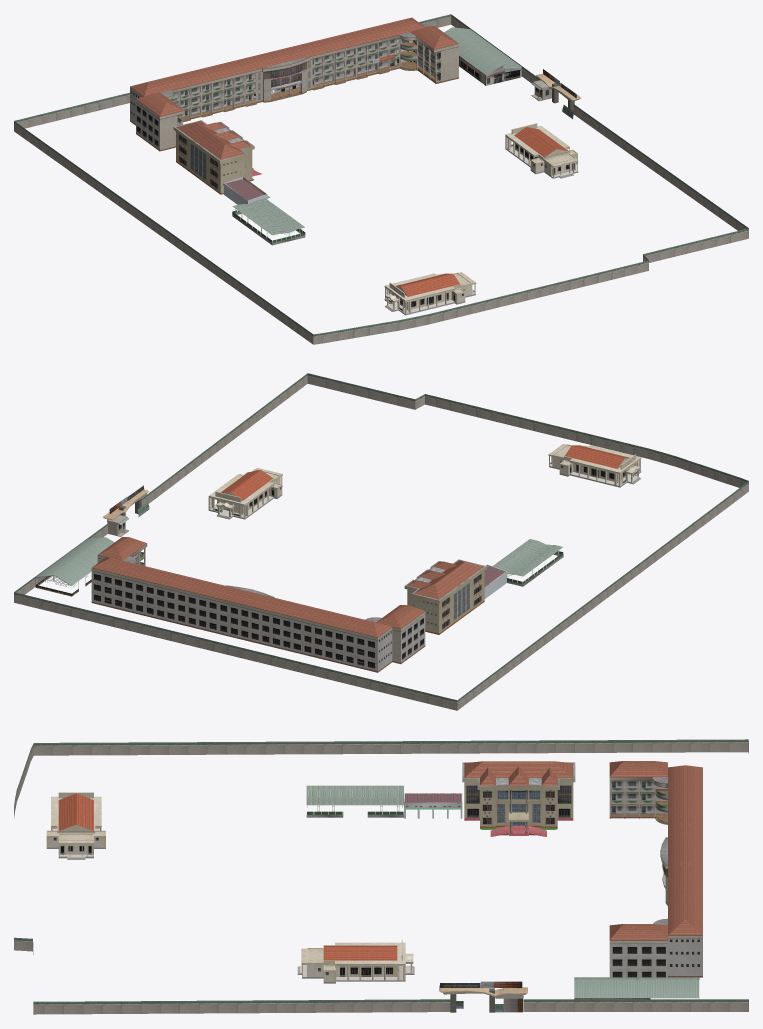
Rendered from Cao dang FPT Polytechnic Binh Phuoc.glb.
3 renders of one model, top to bottom at view 1: azimuth 30°, elevation 25°; view 2: azimuth 150°, elevation 25°; view 3: azimuth 270°, elevation 25°, orthographic. The views are drawn at different scales.
Visible parts, largest first — view 1: 1, 4, 2, 5, 5.001, 3, 4.001; view 2: 1, 4, 2, 5, 5.001, 3, 4.001; view 3: 4, 1, 2, 5.001, 3, 5, 4.001.
Boxes of the visible parts, left/top/right/bottom form: 1: left=130, top=17, right=458, bottom=151; 4: left=14, top=14, right=748, bottom=344; 2: left=173, top=120, right=261, bottom=194; 5: left=384, top=272, right=476, bottom=315; 5.001: left=505, top=123, right=578, bottom=178; 3: left=224, top=176, right=305, bottom=245; 4.001: left=444, top=27, right=521, bottom=85; 1: left=91, top=537, right=425, bottom=672; 4: left=14, top=373, right=748, bottom=710; 2: left=404, top=559, right=486, bottom=634; 5: left=548, top=444, right=641, bottom=487; 5.001: left=208, top=468, right=282, bottom=519; 3: left=484, top=539, right=563, bottom=598; 4.001: left=35, top=537, right=114, bottom=596; 4: left=14, top=739, right=748, bottom=1014; 1: left=609, top=761, right=702, bottom=977; 2: left=462, top=761, right=575, bottom=836; 5.001: left=297, top=940, right=414, bottom=983; 3: left=306, top=785, right=462, bottom=818; 5: left=46, top=792, right=105, bottom=859; 4.001: left=574, top=977, right=699, bottom=999.
Bounding box in the file's own units: 159 × 14.57 × 189.
5 materials, 5 textured.
